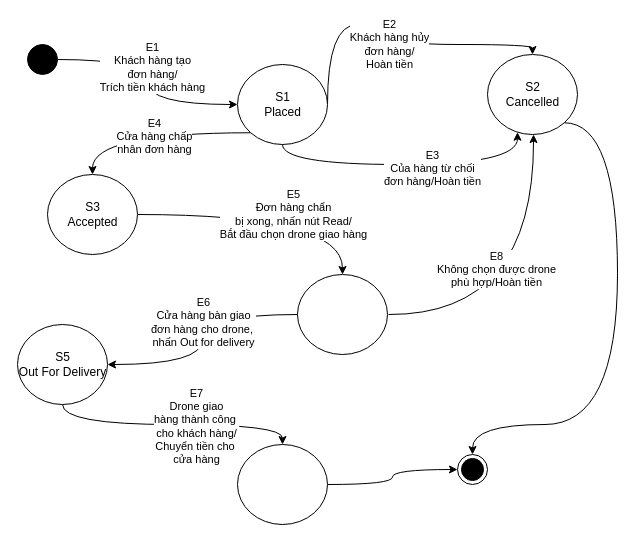
The diagram is 635 pixels wide and 542 high, and some of its shapes have lost their labels. Each missing label, with the centre of its shape:
"S4 Ready" goes at (x=342, y=314).
"S6 Completed" goes at (x=282, y=484).
